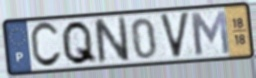0: (129, 16, 160, 60)
C: (29, 20, 64, 70)
M: (188, 9, 232, 57)
N: (91, 14, 132, 66)
Q: (60, 19, 99, 67)
V: (157, 10, 192, 61)
